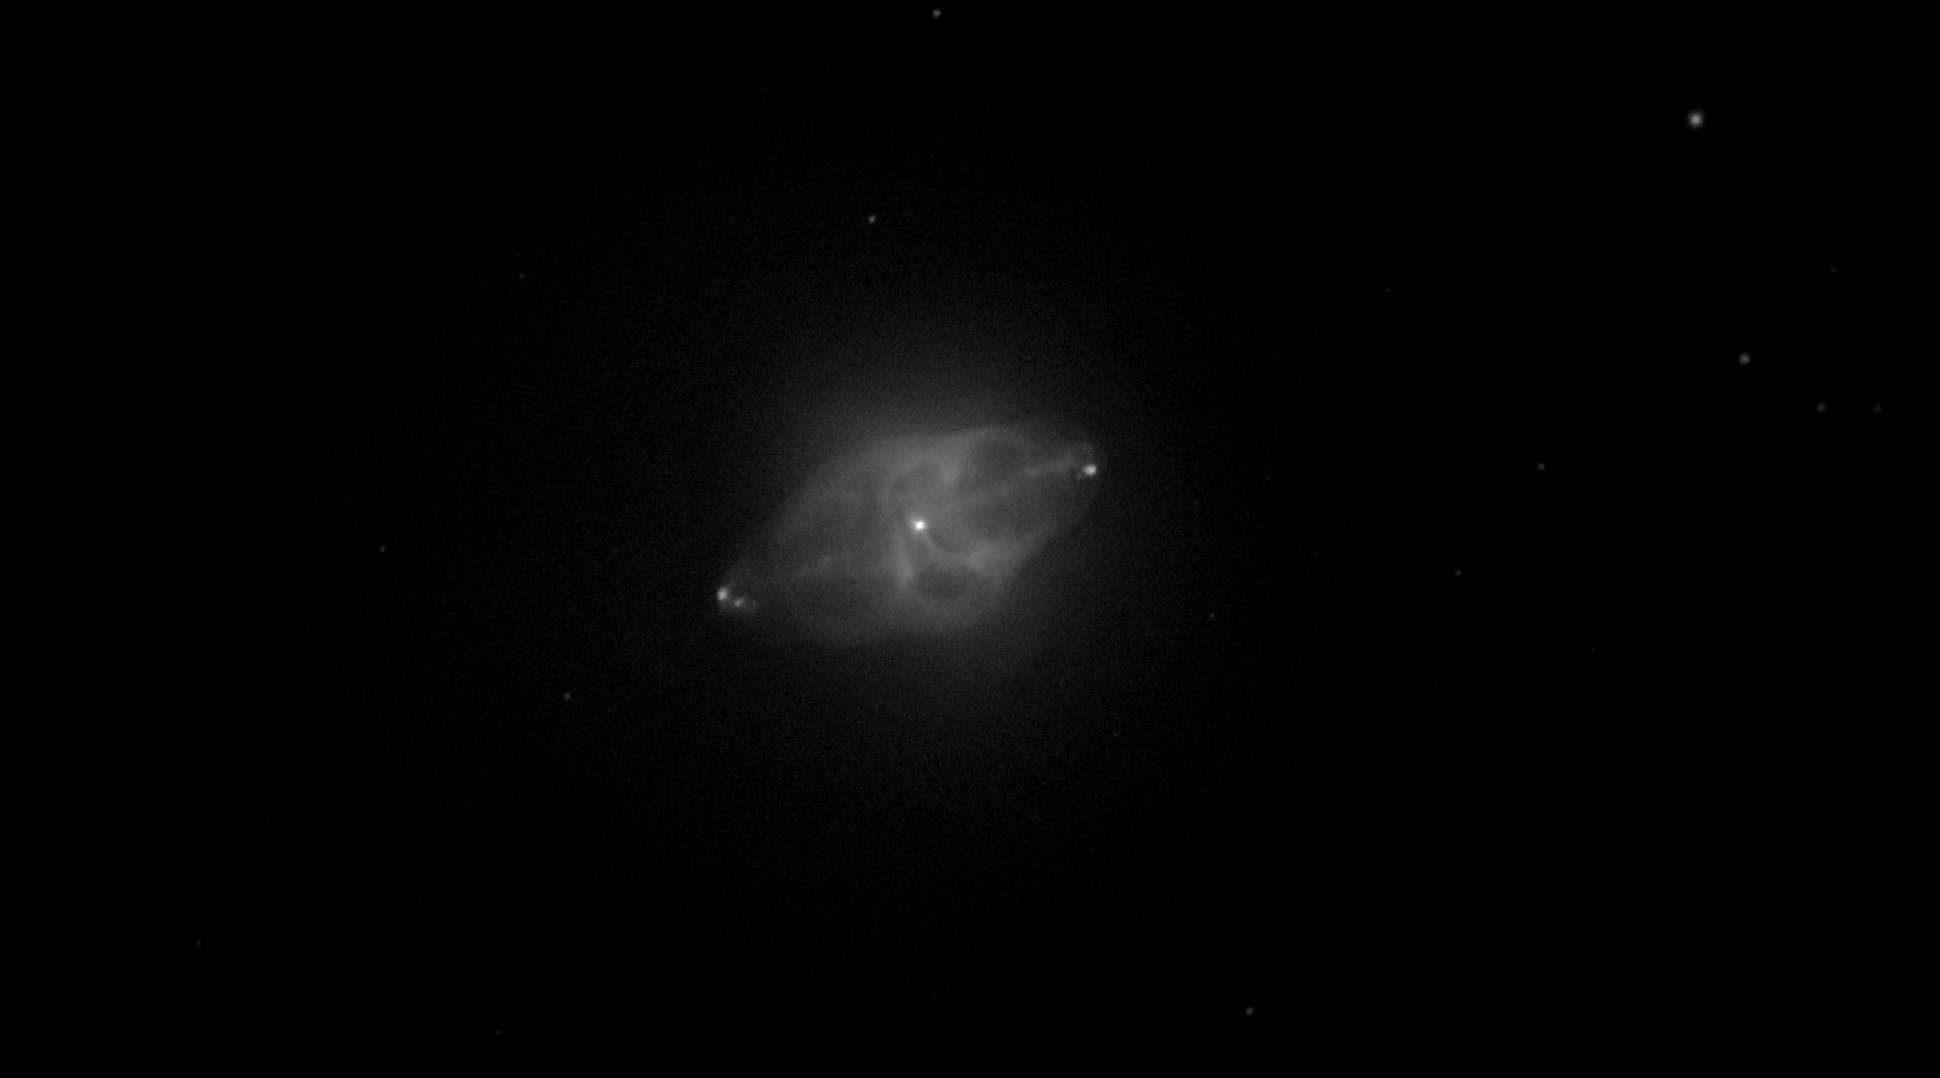Cavity: (732, 493, 857, 580), (780, 570, 901, 631), (924, 489, 1008, 558), (951, 430, 1032, 501), (1005, 469, 1070, 548), (900, 564, 997, 615), (843, 465, 890, 546), (880, 459, 949, 512)
Galaxy: (707, 388, 1115, 656)
